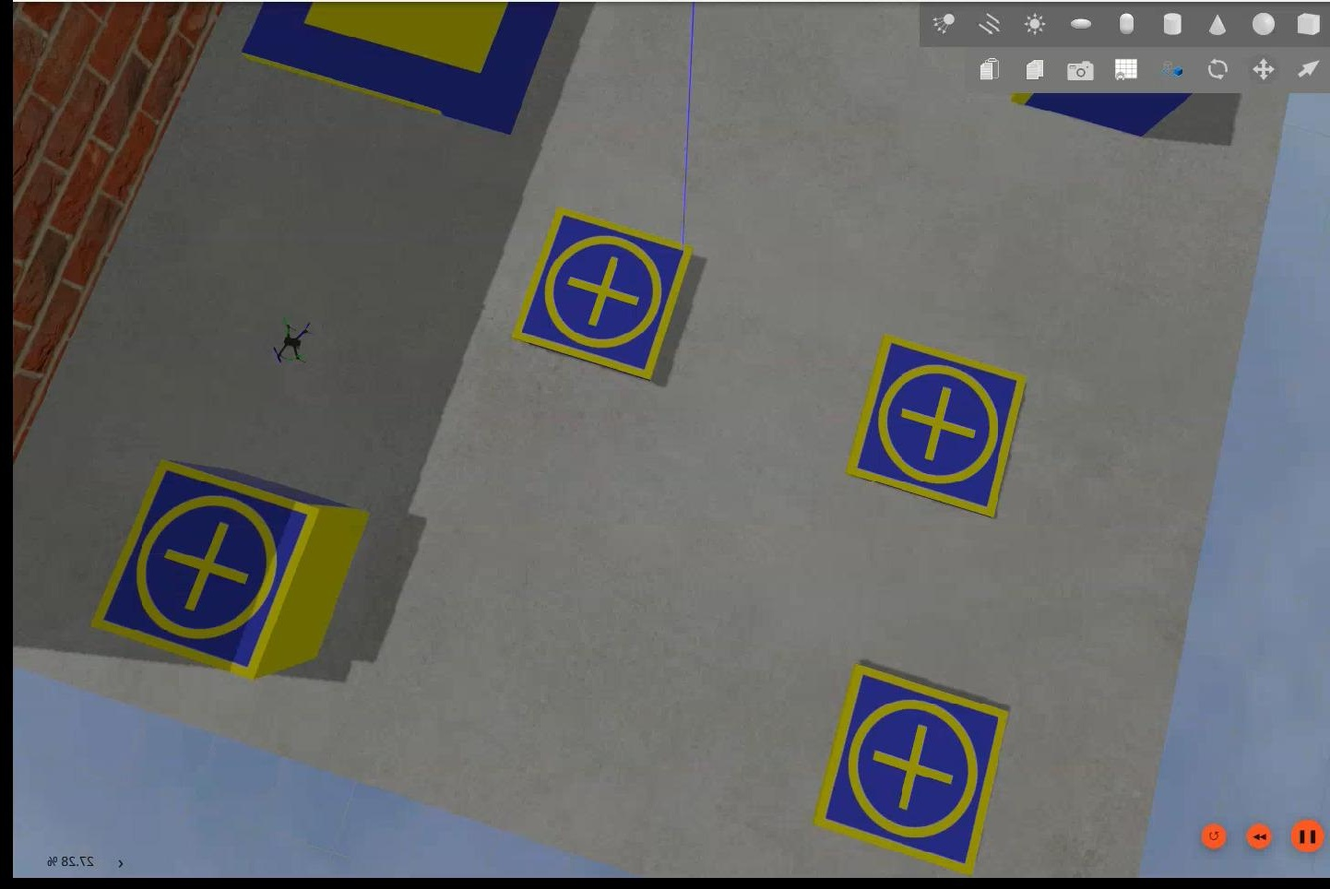large_base: (238, 1, 558, 132)
small_base: (86, 461, 326, 681), (815, 663, 1005, 879), (839, 334, 1028, 519), (511, 210, 692, 382)
